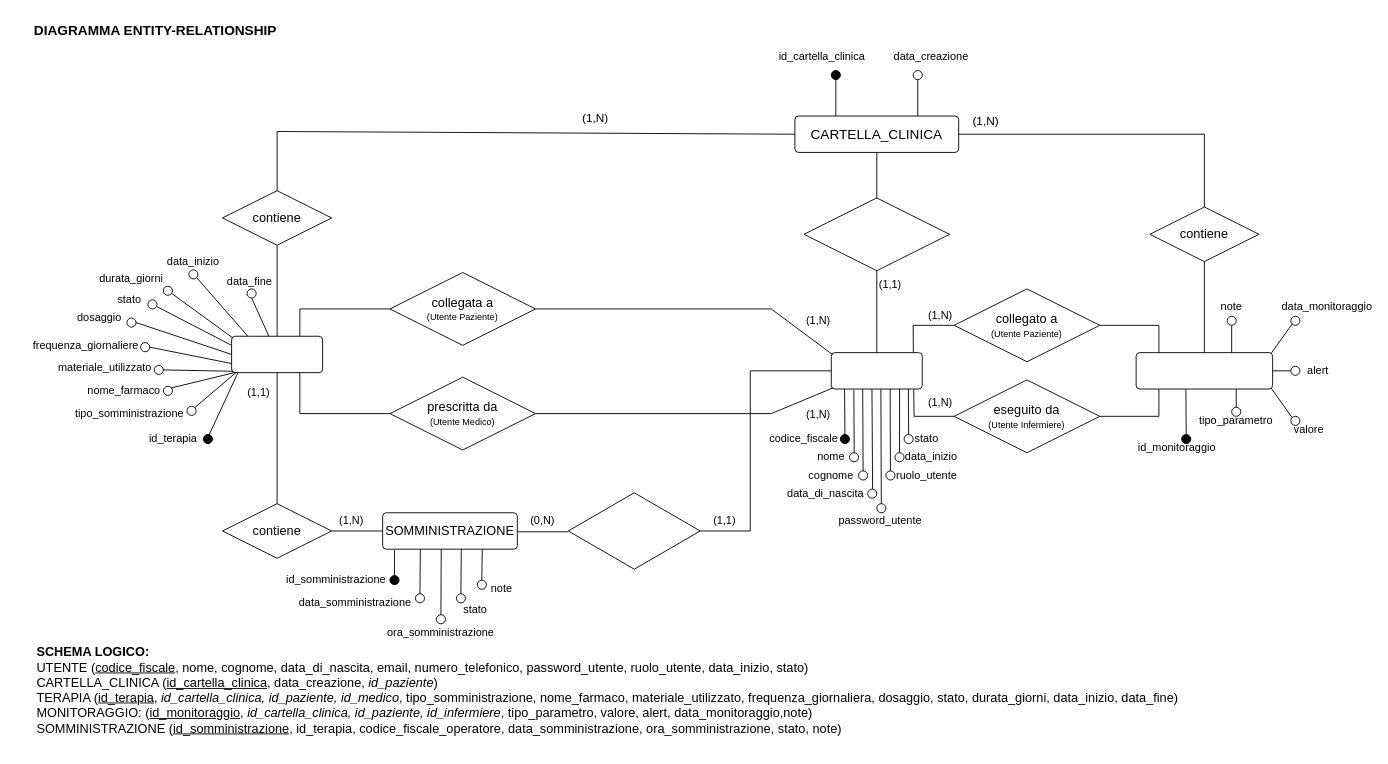
Some shapes in this 1388 by 764 pixel diagram are drawn without their labels. Here are the shapes that lost their labels. From the top down, the box of each, then its label:
(803, 197, 950, 271): ha (Utente Paziente)
(231, 335, 323, 373): TERAPIA
(830, 352, 922, 389): UTENTE
(1135, 352, 1273, 389): MONITORAGGIO
(567, 492, 700, 569): eseguito da (Utente Infermiere/ Medico)
